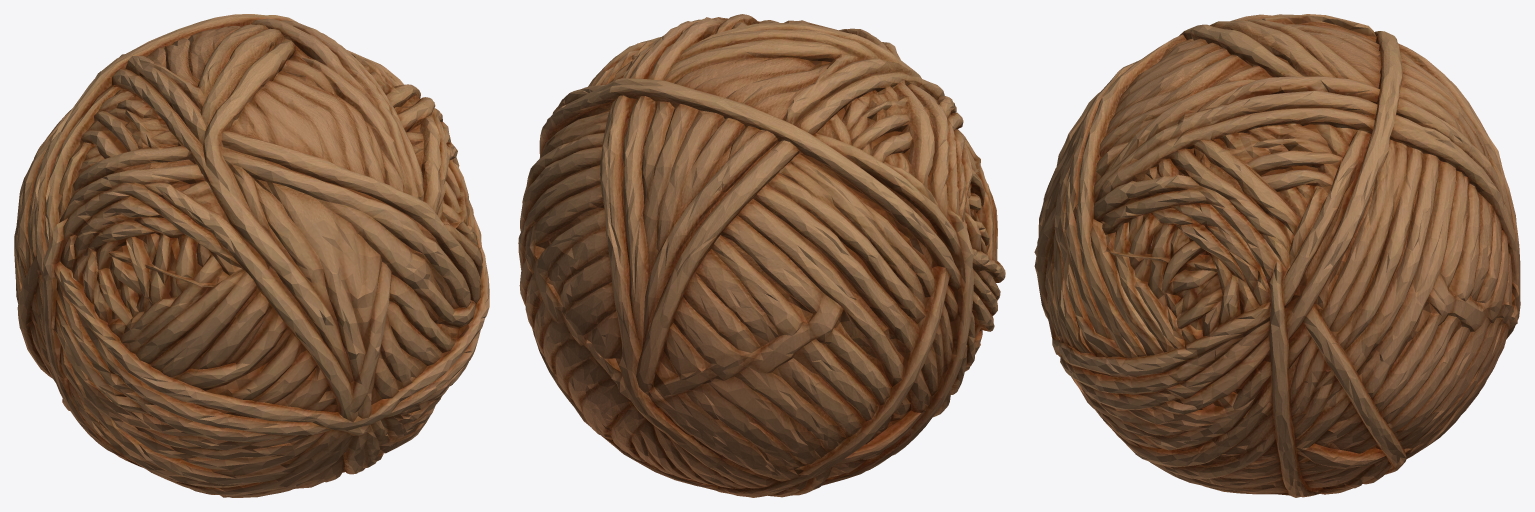
Rendered from toy_11.glb.
3 renders of one model, left to right at view 1: azimuth 30°, elevation 25°; view 2: azimuth 150°, elevation 25°; view 3: azimuth 270°, elevation 25°, orthographic. The views are drawn at different scales.
Parts seen in each view (by area): view 1: tripo_node_8dddb73f-617a-447b-b8ac-1b55942bb85d; view 2: tripo_node_8dddb73f-617a-447b-b8ac-1b55942bb85d; view 3: tripo_node_8dddb73f-617a-447b-b8ac-1b55942bb85d.
Boxes of the visible parts, bbox=[...] form: tripo_node_8dddb73f-617a-447b-b8ac-1b55942bb85d: bbox=[14, 14, 489, 497]; tripo_node_8dddb73f-617a-447b-b8ac-1b55942bb85d: bbox=[518, 14, 1005, 497]; tripo_node_8dddb73f-617a-447b-b8ac-1b55942bb85d: bbox=[1034, 14, 1520, 497].
Size of the model in its own units: 1 by 0.9965 by 0.9973.
1 material, 1 textured.
